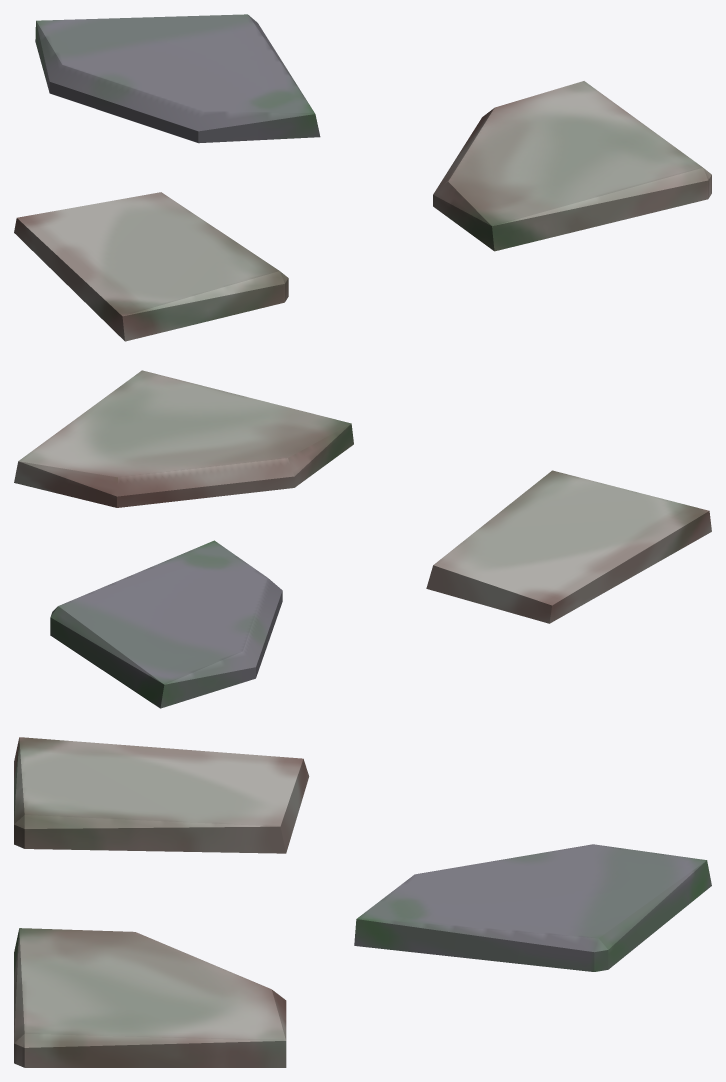
Rendered from PrimeraSlum_Floor_Var01.fbx.
3 renders of one model, top to bottom at view 1: azimuth 30°, elevation 25°; view 2: azimuth 150°, elevation 25°; view 3: azimuth 270°, elevation 25°, orthographic. The views are drawn at different scales.
Parts seen in each view (by area): view 1: PrimeraSlum_Floor_Var01; view 2: PrimeraSlum_Floor_Var01; view 3: PrimeraSlum_Floor_Var01.
Part boxes in pixels (x1=…): PrimeraSlum_Floor_Var01: x1=14, y1=14, x2=711, y2=341; PrimeraSlum_Floor_Var01: x1=14, y1=370, x2=711, y2=708; PrimeraSlum_Floor_Var01: x1=14, y1=737, x2=711, y2=1067.
Bounding box in the file's own units: 844 × 45.54 × 814.
